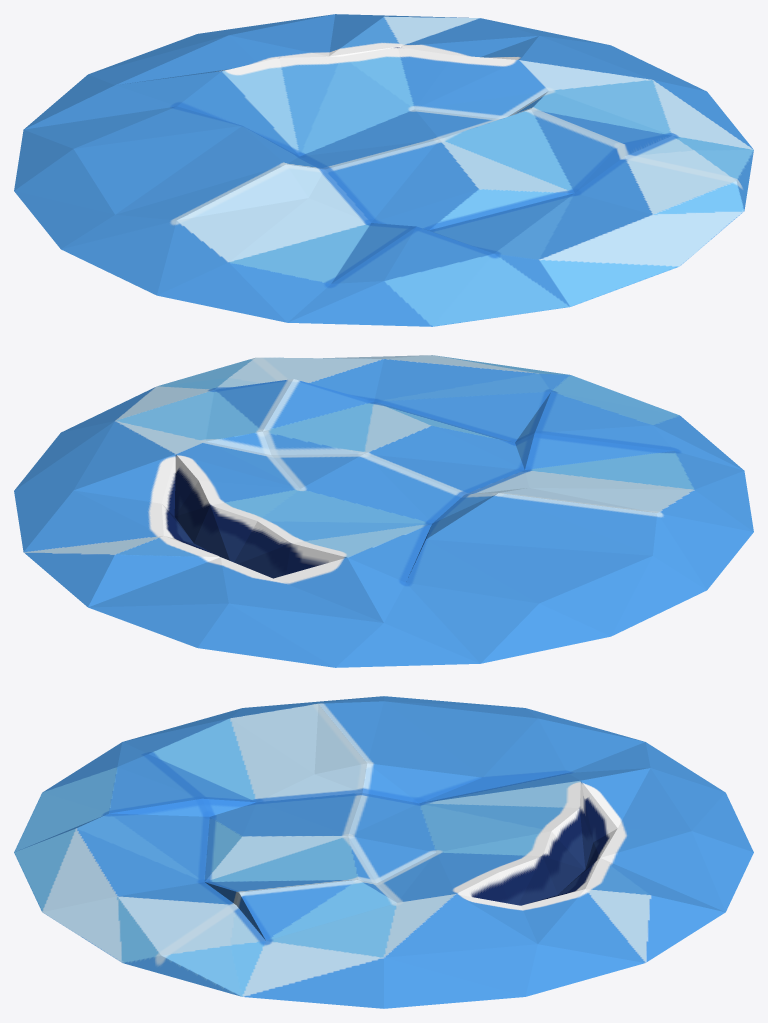
Rendered from Bubble_Popped_H.fbx.
3 renders of one model, top to bottom at view 1: azimuth 30°, elevation 25°; view 2: azimuth 150°, elevation 25°; view 3: azimuth 270°, elevation 25°, orthographic.
Parts seen in each view (by area): view 1: Bubble_Popped_H; view 2: Bubble_Popped_H; view 3: Bubble_Popped_H.
Boxes of the visible parts, box(x1,y1,x2,y2) form: Bubble_Popped_H: box(14, 14, 753, 326); Bubble_Popped_H: box(14, 355, 753, 667); Bubble_Popped_H: box(14, 696, 753, 1008).
Bounding box in the file's own units: 1.13 × 0.07 × 1.13.
Materials: 1 (1 with a texture image).
